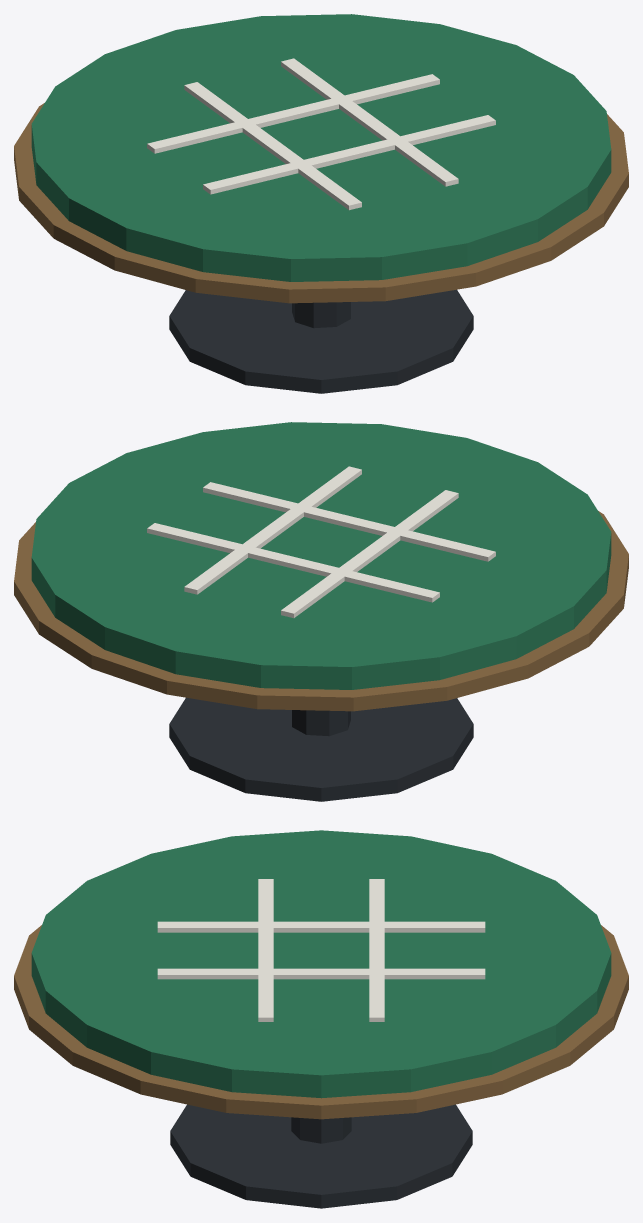
The model's file is game_table.glb.
The picture shows the model from 3 angles, top to bottom: view 1: azimuth 30°, elevation 25°; view 2: azimuth 150°, elevation 25°; view 3: azimuth 270°, elevation 25°; orthographic projection.
Parts seen in each view (by area): view 1: Cylinder; view 2: Cylinder; view 3: Cylinder.
Boxes of the visible parts, x1,y1,x2,y2 form: Cylinder: [14, 14, 628, 393]; Cylinder: [14, 422, 628, 801]; Cylinder: [14, 830, 628, 1208].
Size of the model in its own units: 2.44 by 0.86 by 2.44.
